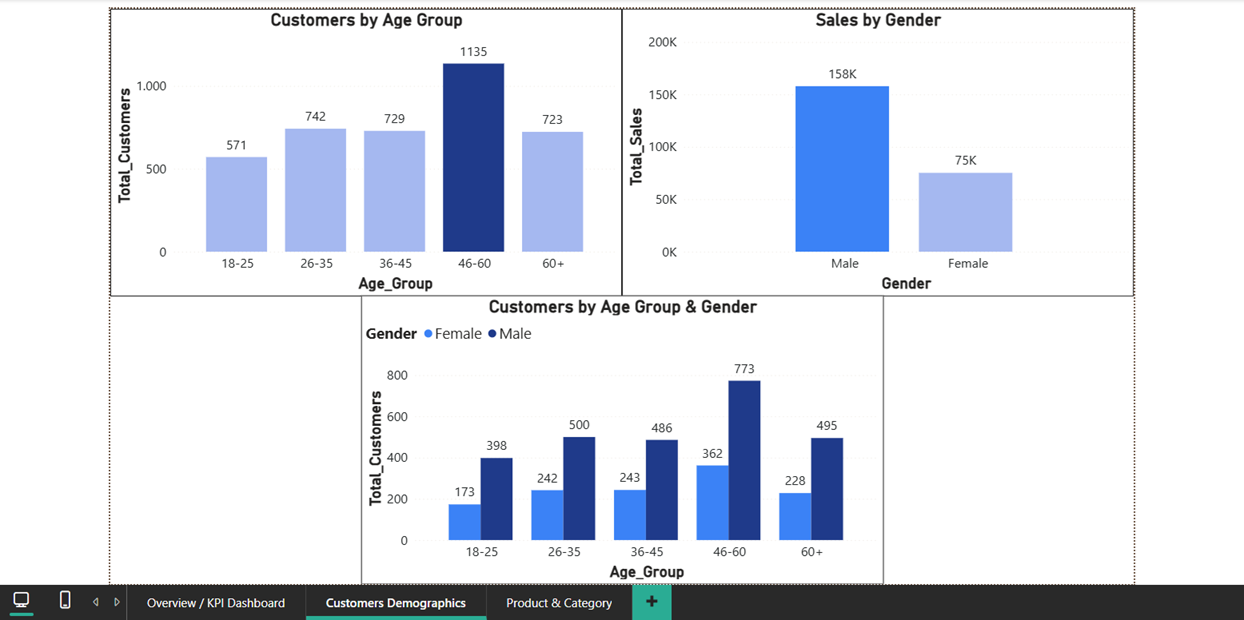

This screenshot's page, from the dashboard's own definition file:
{"tool":"powerbi","page":{"name":"Customers Demographics","canvas":[1280,720],"ordinal":1},"visuals":[{"type":"clusteredColumnChart","title":"Customers by Age Group","fields":{"Category":["shopping_behavior_updated.Age_Group"],"Y":["Count(shopping_behavior_updated.CustomerID)"]},"box":[0,0,640,360],"z":0},{"type":"clusteredColumnChart","title":"Sales by Gender","fields":{"Category":["shopping_behavior_updated.Gender"],"Y":["Sum(shopping_behavior_updated.Purchase_Amount)"]},"box":[640,0,640,360],"z":1000},{"type":"clusteredColumnChart","title":"Customers by Age Group & Gender","fields":{"Category":["shopping_behavior_updated.Age_Group"],"Y":["Count(shopping_behavior_updated.CustomerID)"],"Series":["shopping_behavior_updated.Gender"]},"box":[313.3,358.3,653.3,361.7],"z":2000}]}

Visuals, with their boxes on the page's 1280x720 design canvas (x1, y1, x2, y2). These are canvas units, not pixel positions in the 1244x620 screenshot, which may show the page scaled, cropped or inside an application window:
"Customers by Age Group" clusteredColumnChart: <region>0, 0, 640, 360</region>
"Sales by Gender" clusteredColumnChart: <region>640, 0, 1280, 360</region>
"Customers by Age Group & Gender" clusteredColumnChart: <region>313, 358, 967, 720</region>
